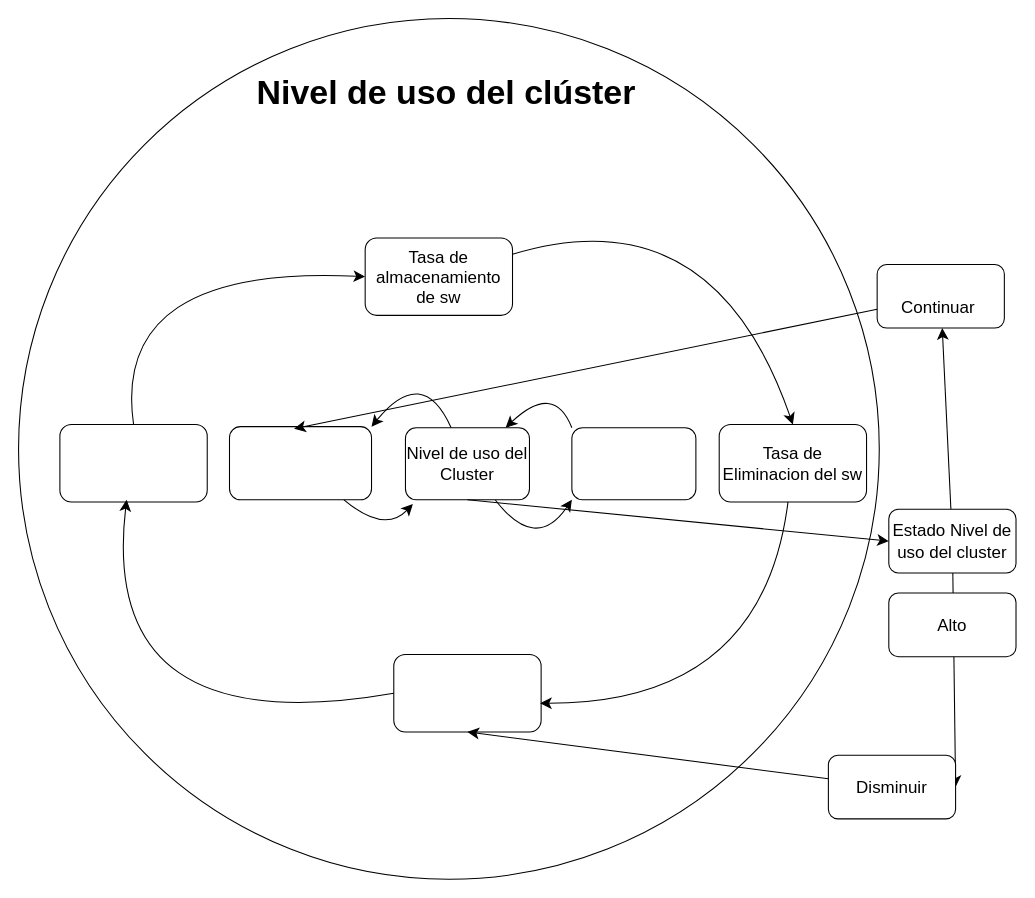
This 1035x898 diagram has some shape labels left out. The centre of each missing label's shape, as x and y in pixels:
"Disponibilidad del cluster" belongs at [633,463].
"Tasa de almacenamiento" belongs at [467,692].
"Tasa de Eliminacion" belongs at [133,462].
"Uso actual del Cluster" belongs at [300,463].
